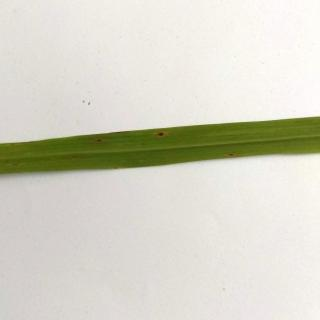bercak-Cokelat: (150, 128, 170, 140), (93, 136, 109, 146)
